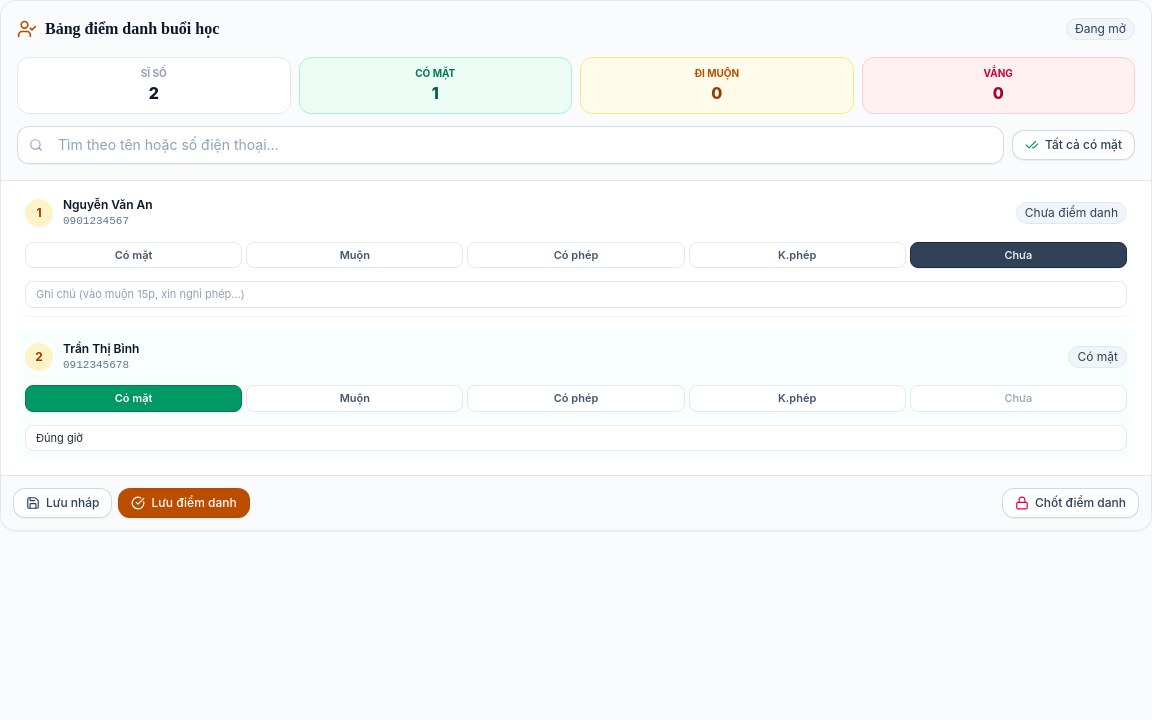
OnlineMeetAttendancePanel › marks all present when clicking "Tất cả có mặt"
expect the text "Tất cả có mặt" is shown: met, box left=1045, top=137, right=1122, bottom=153
Click the button "Tất cả có mặt".
click(1074, 145)  # box left=1012, top=130, right=1135, bottom=160
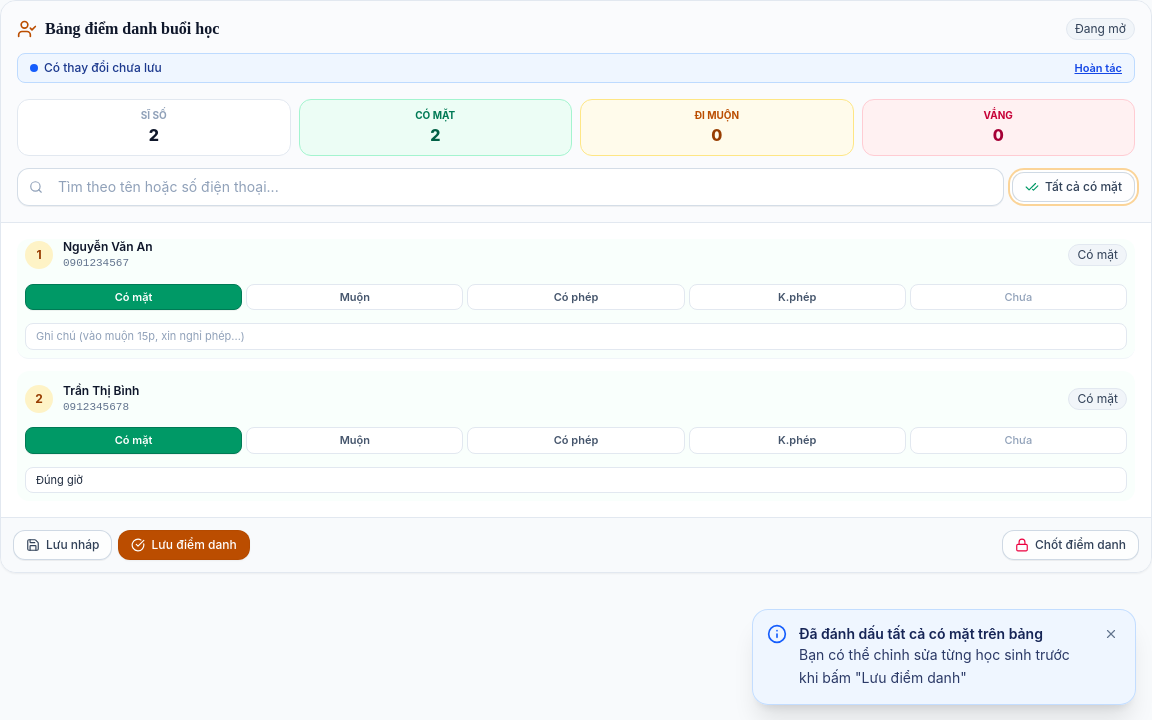
expect the text "Có thay đổi chưa lưu" is shown: met, box left=30, top=60, right=162, bottom=76
